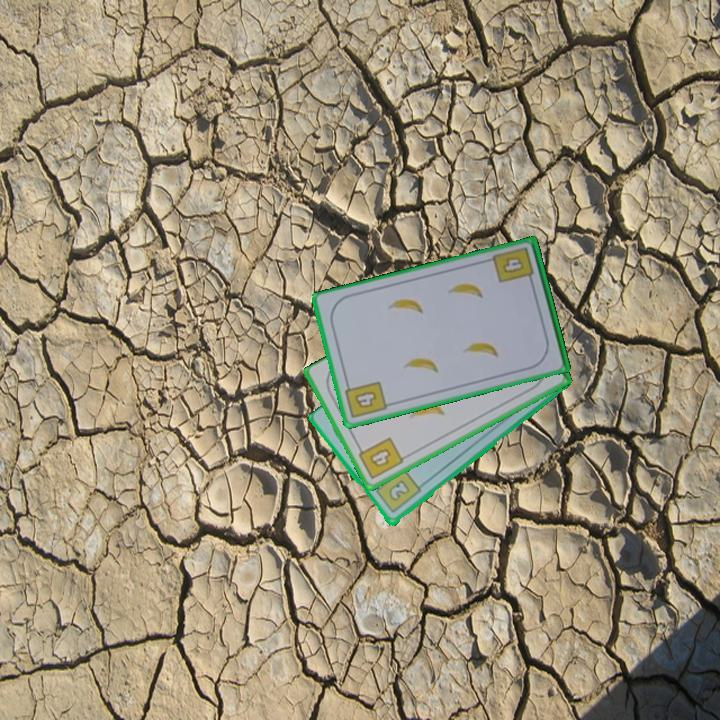2b: (370, 465, 424, 517)
4b: (354, 434, 406, 482), (489, 243, 537, 288), (342, 378, 390, 422)
